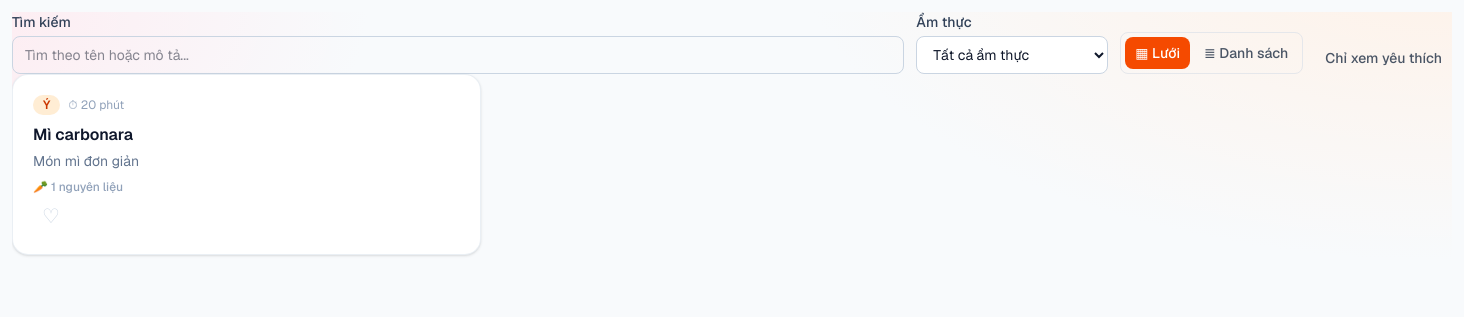
it: RecipeList query behavior › does not fetch again when only favorites mode changes
Expected: the heading "Mì carbonara" is shown, x1=33 y1=124 x2=133 y2=145
Click the button "Chỉ xem yêu thích". click: (1384,58)
box: x1=1315 y1=42 x2=1452 y2=74
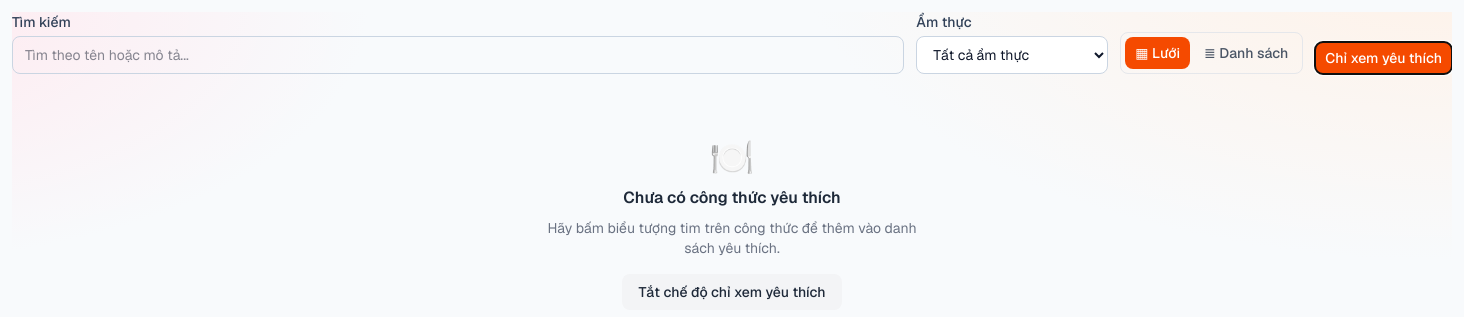
Result: the heading "Chưa có công thức yêu thích" is shown at x1=623 y1=186 x2=841 y2=210
